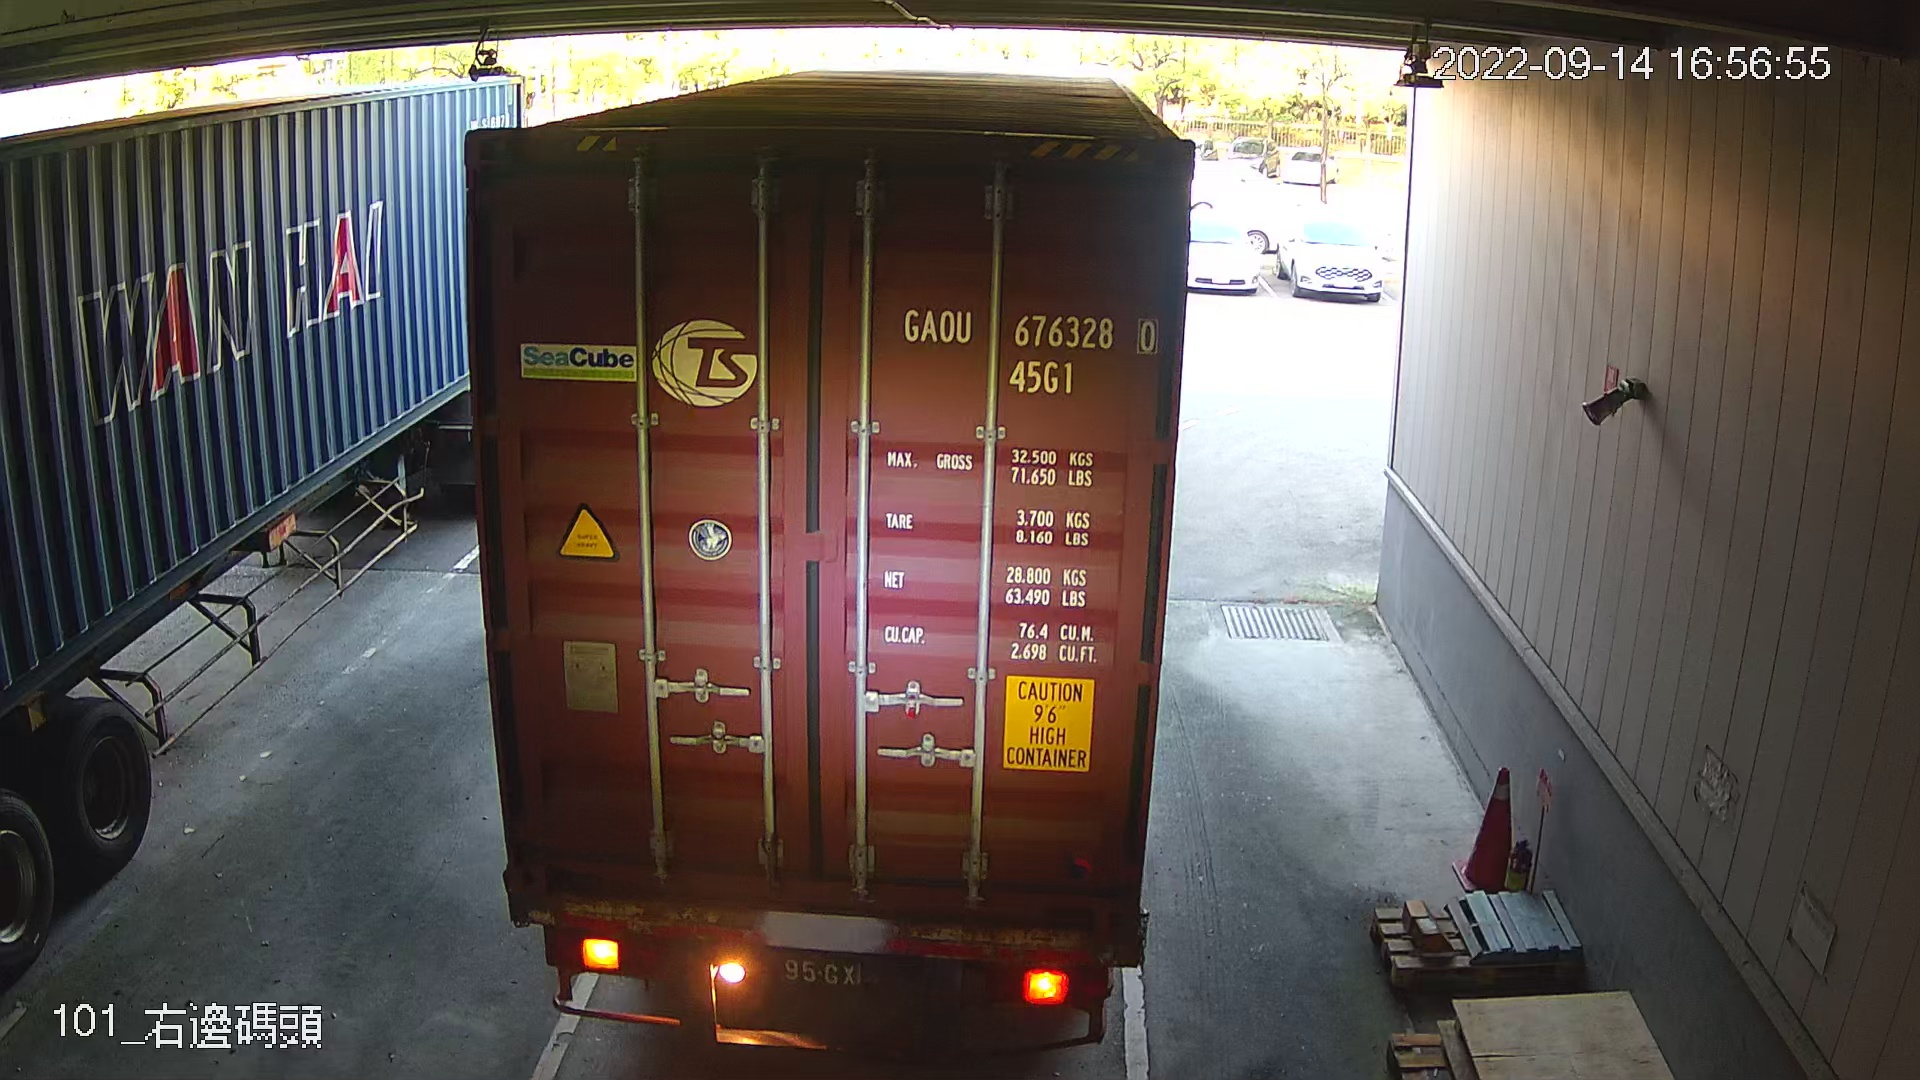container: (891, 299, 1168, 401)
